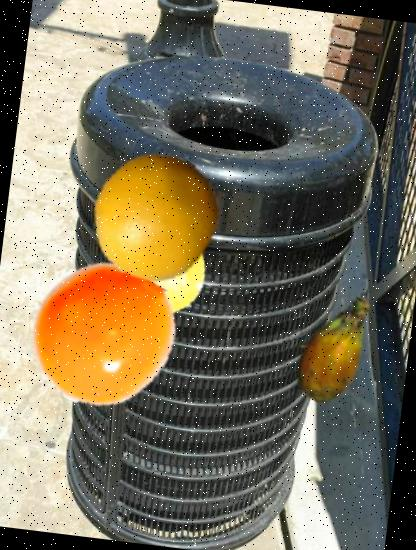Cactus: (272, 285, 402, 414)
Grapefruit: (82, 144, 228, 290)
Physalis: (22, 257, 181, 416)
Quince: (100, 216, 221, 337)
